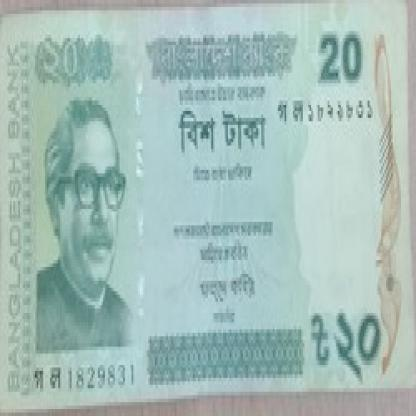Twenty: (303, 284, 389, 382), (31, 35, 112, 97), (314, 28, 370, 86)
